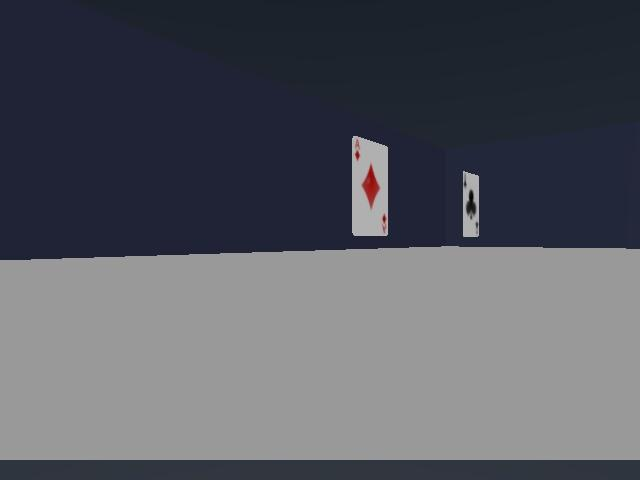club: (463, 172, 479, 236)
diamond: (352, 137, 387, 235)
